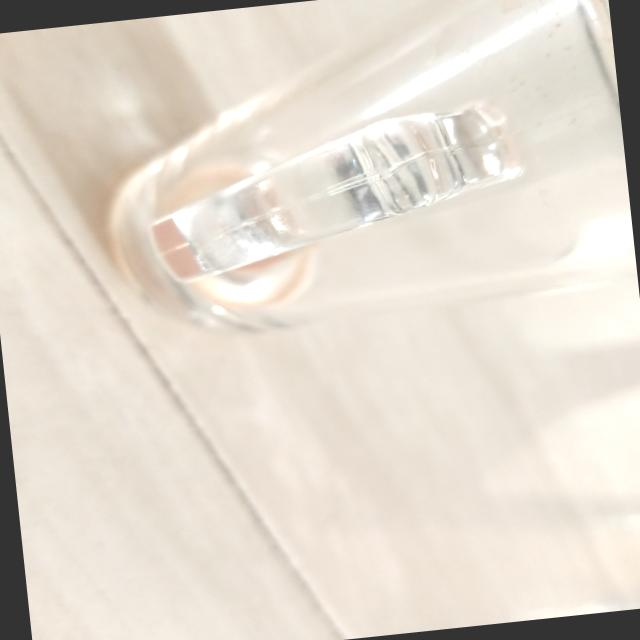glass-VX4N: (86, 0, 639, 348)
